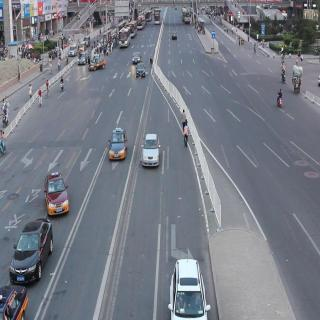BigCar: (116, 27, 133, 49)
Car: (9, 218, 56, 284), (167, 250, 211, 320), (100, 114, 133, 175), (38, 171, 74, 220), (139, 121, 165, 175), (87, 54, 109, 75), (131, 61, 147, 80), (127, 52, 142, 66), (167, 29, 180, 44)
